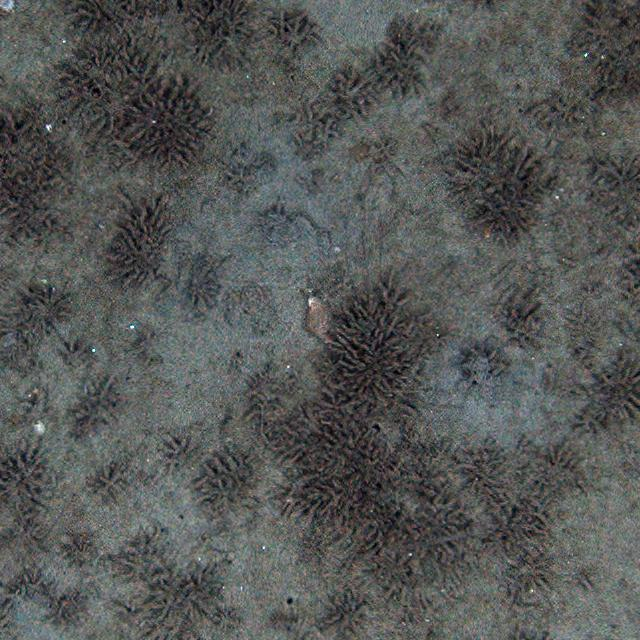whelk: (300, 289, 334, 347)
